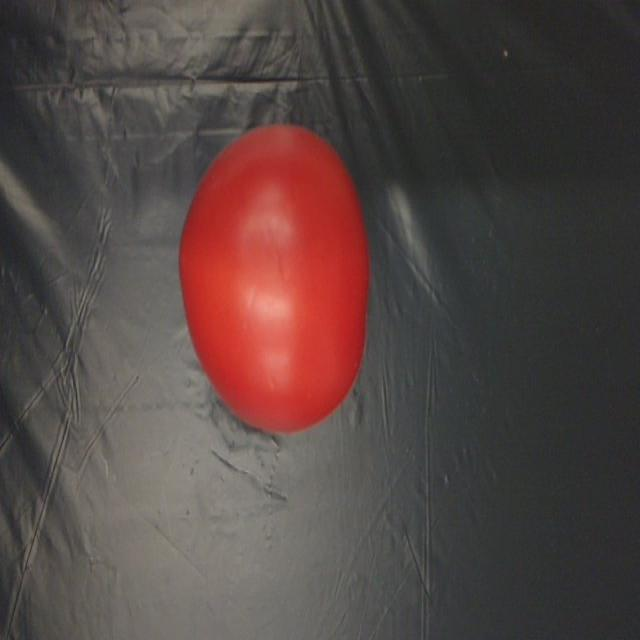kirmizi: (172, 89, 374, 442)
